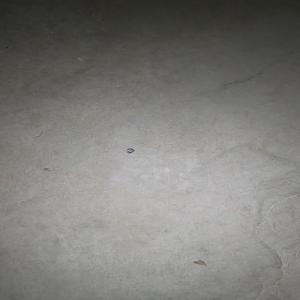Nut: (125, 147, 134, 153)
